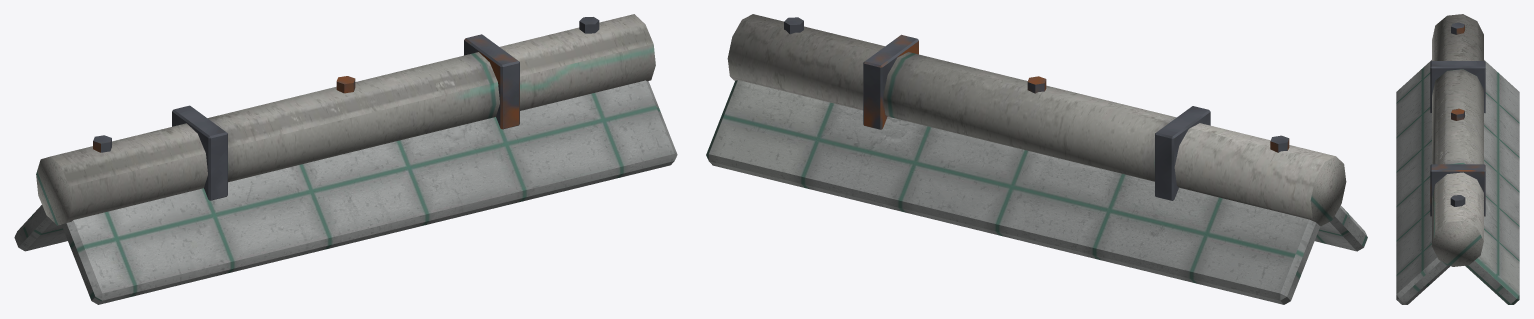
File: cati_tepesi.glb
3 views of the same model, side by side, from view 1: azimuth 30°, elevation 25°; view 2: azimuth 150°, elevation 25°; view 3: azimuth 270°, elevation 25° (orthographic). The views are drawn at different scales.
Parts seen in each view (by area): view 1: cati_tepesi; view 2: cati_tepesi; view 3: cati_tepesi.
Part boxes in pixels (<box>): cati_tepesi: <box>14,14,677,304</box>; cati_tepesi: <box>706,14,1367,304</box>; cati_tepesi: <box>1396,14,1519,304</box>.
Bounding box in the file's own units: 3 × 0.6226 × 0.7566.
Materials: 1 (1 with a texture image).
